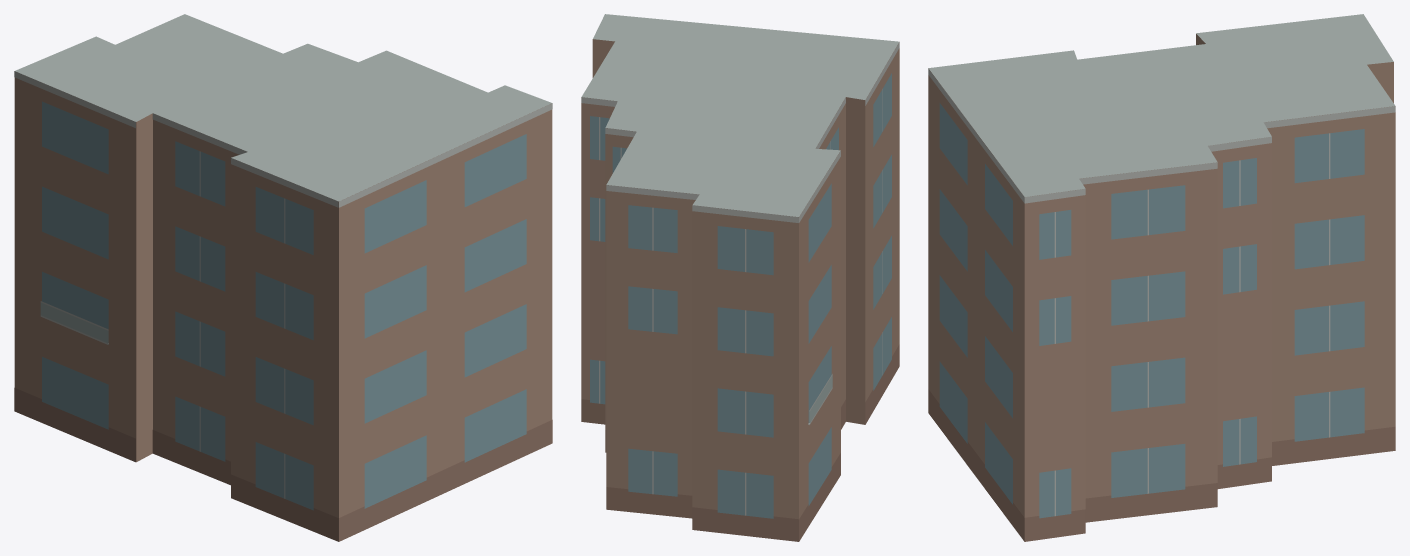
File: survey-upis-32630255.glb
The picture shows the model from 3 angles, left to right: view 1: azimuth 30°, elevation 25°; view 2: azimuth 150°, elevation 25°; view 3: azimuth 270°, elevation 25°; orthographic projection. The views are drawn at different scales.
Visible parts, largest first — view 1: survey-upis-32630255.tmp; view 2: survey-upis-32630255.tmp; view 3: survey-upis-32630255.tmp.
Part boxes in pixels (left/top/right/bottom): survey-upis-32630255.tmp: left=14, top=14, right=552, bottom=541; survey-upis-32630255.tmp: left=581, top=14, right=899, bottom=541; survey-upis-32630255.tmp: left=928, top=14, right=1395, bottom=541.
Size of the model in its own units: 14.94 by 13.1 by 16.1.
